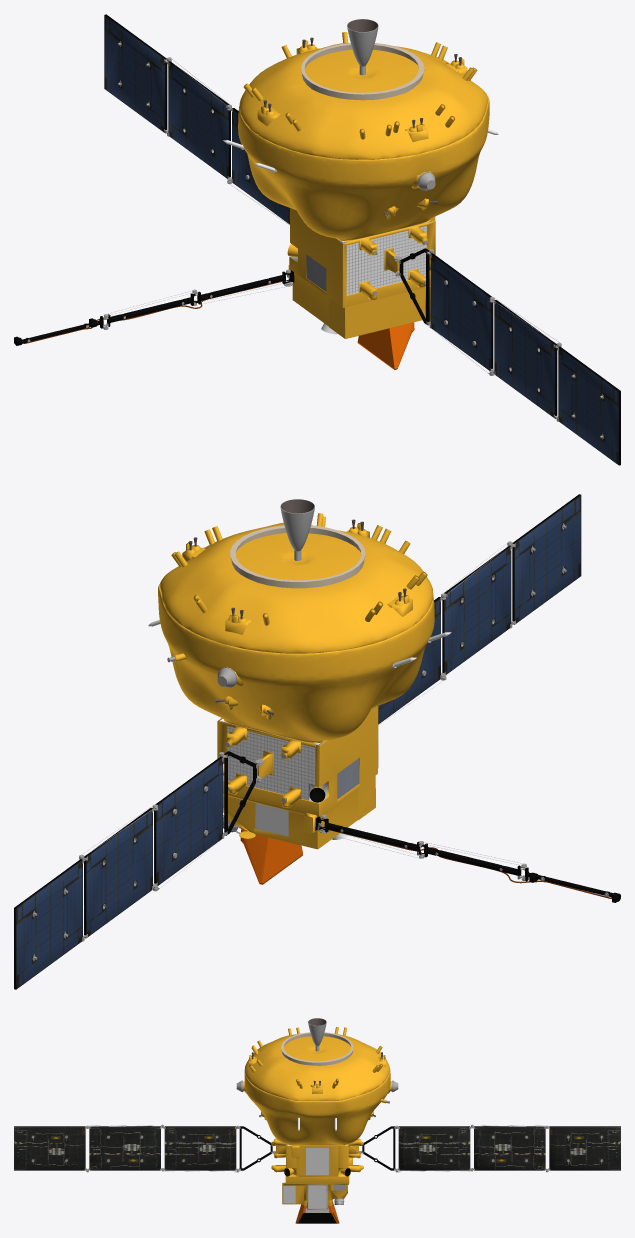
File: smile.glb
3 renders of one model, top to bottom at view 1: azimuth 30°, elevation 25°; view 2: azimuth 150°, elevation 25°; view 3: azimuth 270°, elevation 25°, orthographic. The views are drawn at different scales.
Parts seen in each view (by area): view 1: SMILE_LOW_substance_01_SMILE_LP_MLI, SMILE_LOW_substance_01_SMILE_LP_SA_PANELS, SMILE_LOW_substance_01_SMILE_LP_MAIN_; view 2: SMILE_LOW_substance_01_SMILE_LP_MLI, SMILE_LOW_substance_01_SMILE_LP_SA_PANELS, SMILE_LOW_substance_01_SMILE_LP_MAIN_; view 3: SMILE_LOW_substance_01_SMILE_LP_SA_PANELS, SMILE_LOW_substance_01_SMILE_LP_MLI, SMILE_LOW_substance_01_SMILE_LP_MAIN_.
Part boxes in pixels (<box>): SMILE_LOW_substance_01_SMILE_LP_MLI: <box>14,32,489,369</box>; SMILE_LOW_substance_01_SMILE_LP_SA_PANELS: <box>104,14,620,465</box>; SMILE_LOW_substance_01_SMILE_LP_MAIN_: <box>23,19,603,439</box>; SMILE_LOW_substance_01_SMILE_LP_MLI: <box>158,513,620,902</box>; SMILE_LOW_substance_01_SMILE_LP_SA_PANELS: <box>14,494,581,989</box>; SMILE_LOW_substance_01_SMILE_LP_MAIN_: <box>32,499,611,961</box>; SMILE_LOW_substance_01_SMILE_LP_SA_PANELS: <box>14,1126,620,1170</box>; SMILE_LOW_substance_01_SMILE_LP_MLI: <box>243,1027,391,1223</box>; SMILE_LOW_substance_01_SMILE_LP_MAIN_: <box>31,1018,603,1212</box>.
Bounding box in the file's own units: 4.85 × 3.52 × 9.82.
3 materials, 3 textured.
